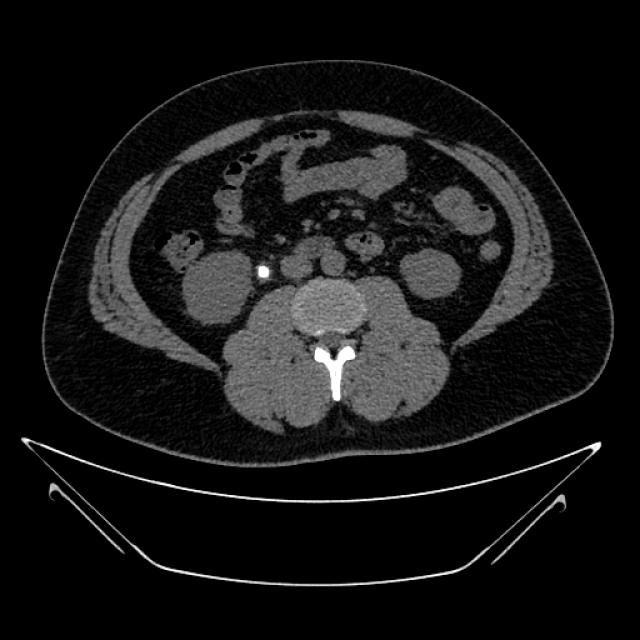kidneystone: (258, 265, 269, 278)
